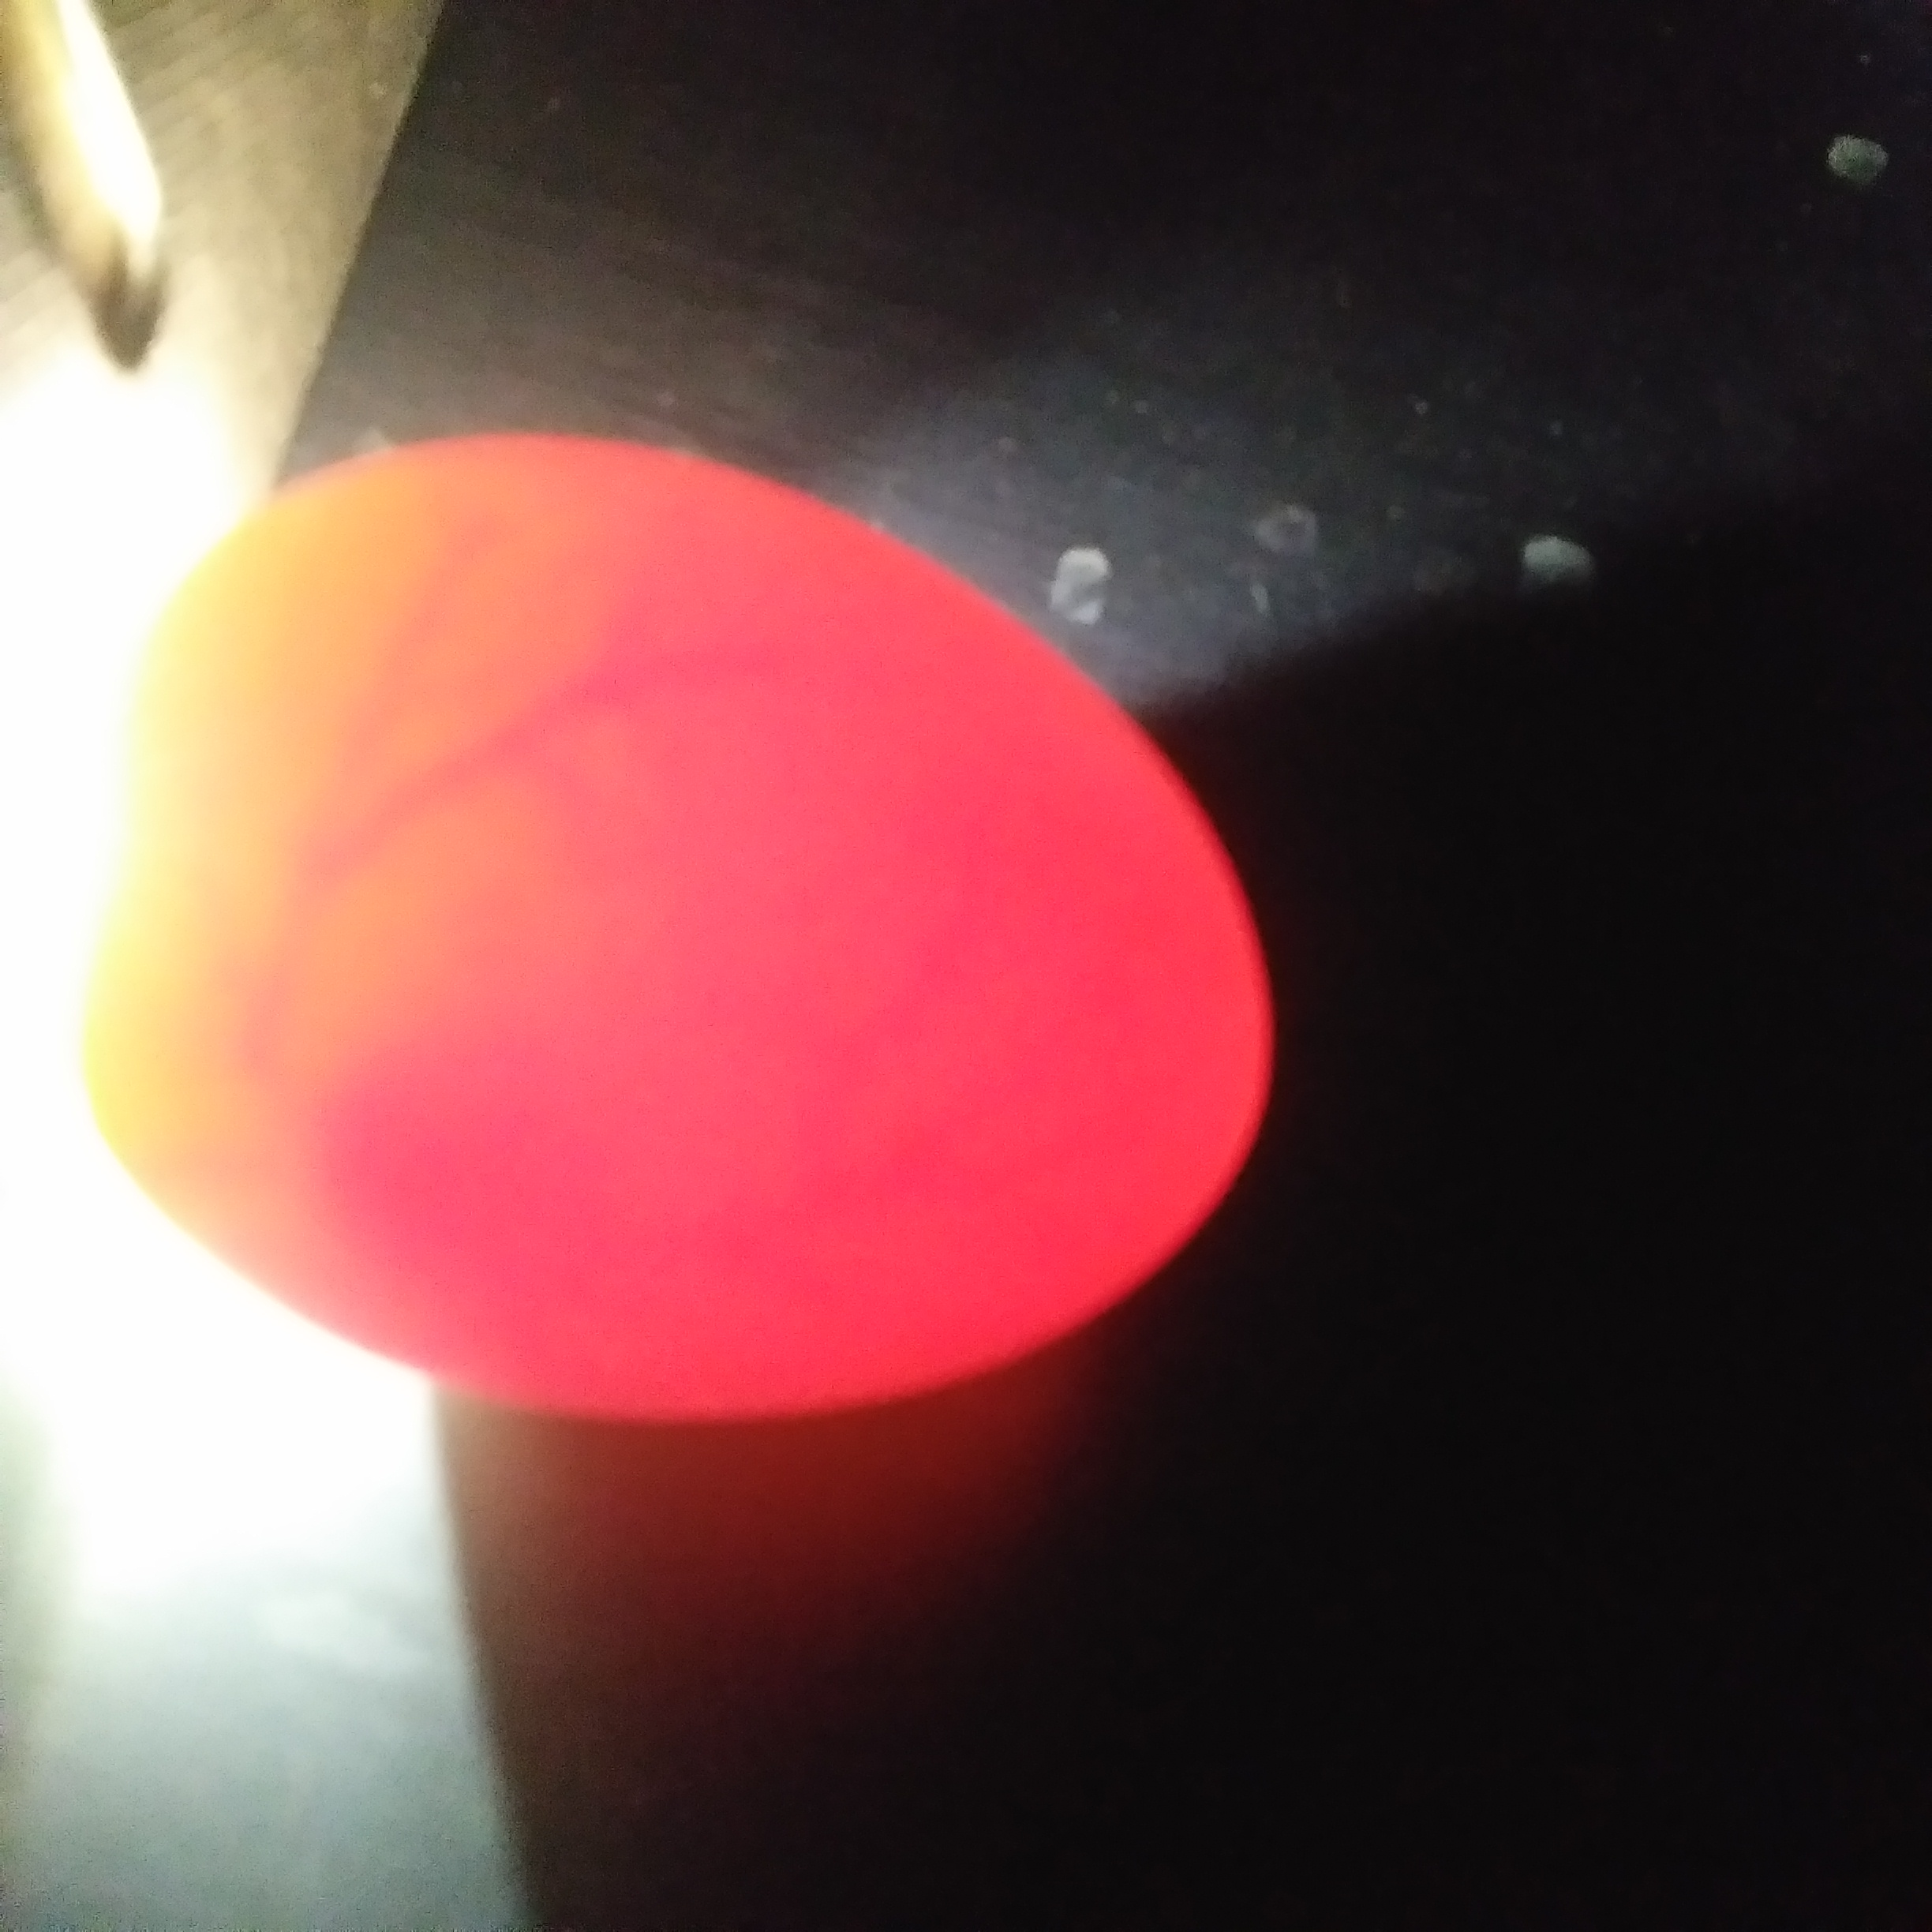bloodcell: (182, 637, 1065, 1003)
embryo: (303, 1095, 540, 1295)
